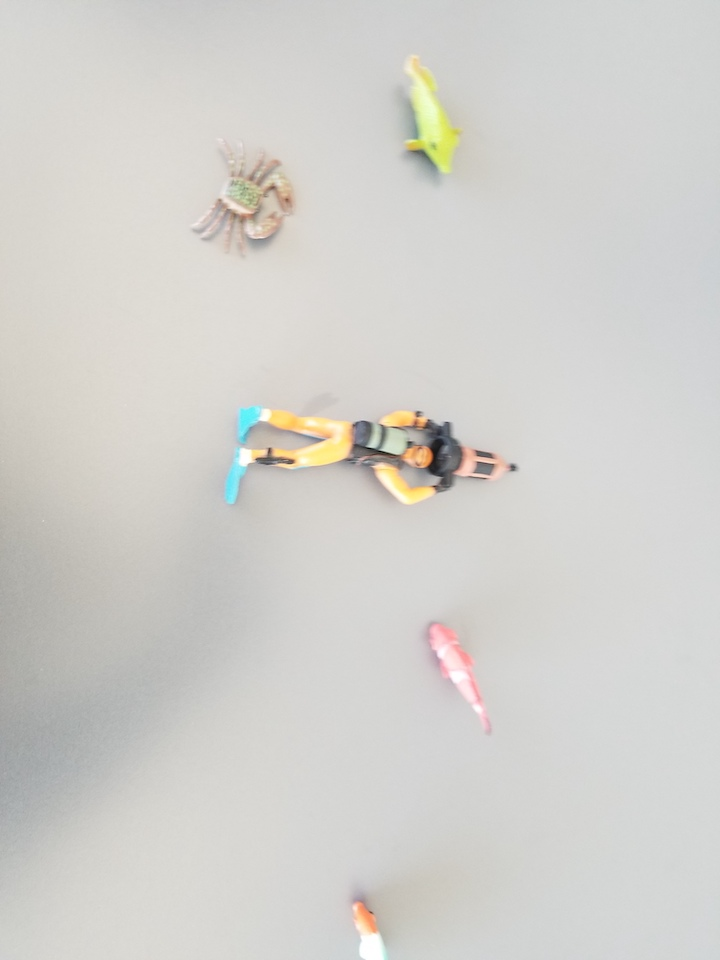crab: (194, 134, 302, 261)
diver: (223, 397, 528, 517)
fish: (422, 619, 498, 737), (398, 51, 464, 181), (347, 899, 396, 960)
